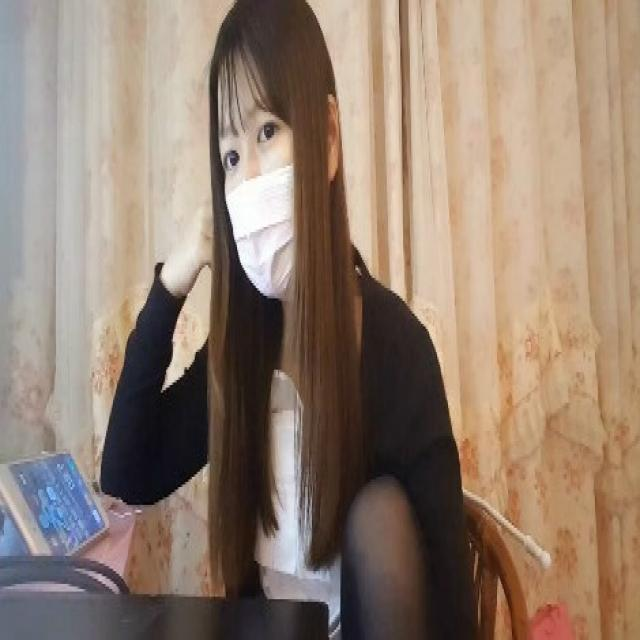mask: (217, 49, 322, 298)
